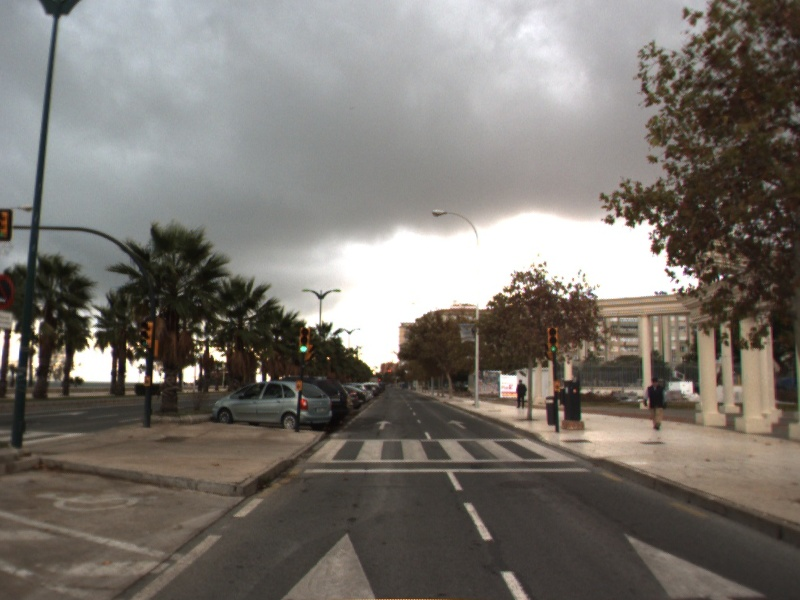STRAIGHT: (446, 418, 469, 430), (374, 419, 394, 431)
